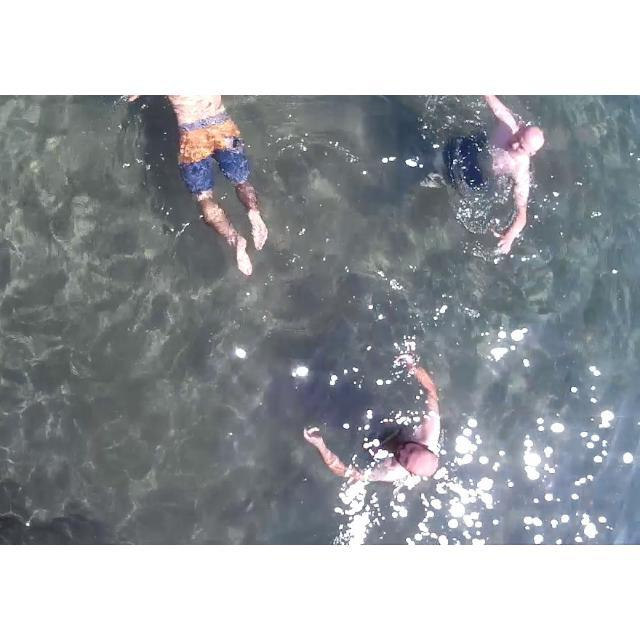human: (106, 95, 285, 296), (302, 337, 456, 505), (426, 95, 544, 288)
